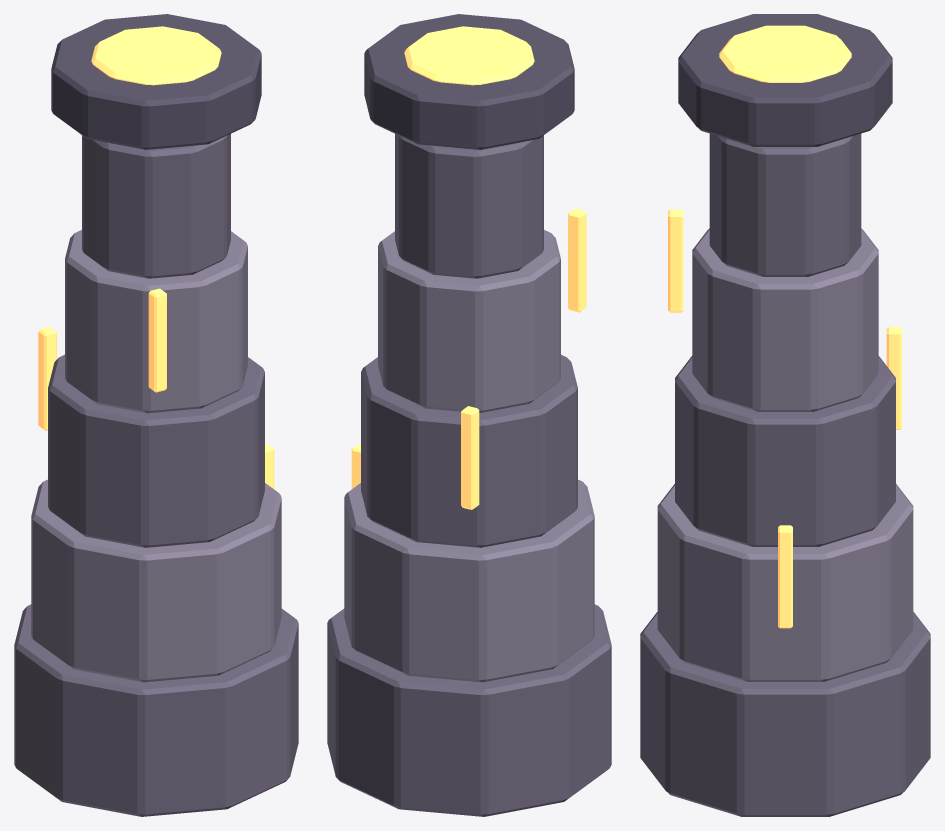
Rendered from ember_ash_chimney.glb.
3 views of the same model, side by side, from view 1: azimuth 30°, elevation 25°; view 2: azimuth 150°, elevation 25°; view 3: azimuth 270°, elevation 25° (orthographic).
Visible parts, largest first — view 1: ember_ash_chimney.001; view 2: ember_ash_chimney.001; view 3: ember_ash_chimney.001.
Boxes of the visible parts, x1,y1,x2,y2 form: ember_ash_chimney.001: [14, 14, 298, 816]; ember_ash_chimney.001: [327, 14, 611, 816]; ember_ash_chimney.001: [640, 14, 930, 816].
Bounding box in the file's own units: 2.57 × 7.2 × 2.68.
